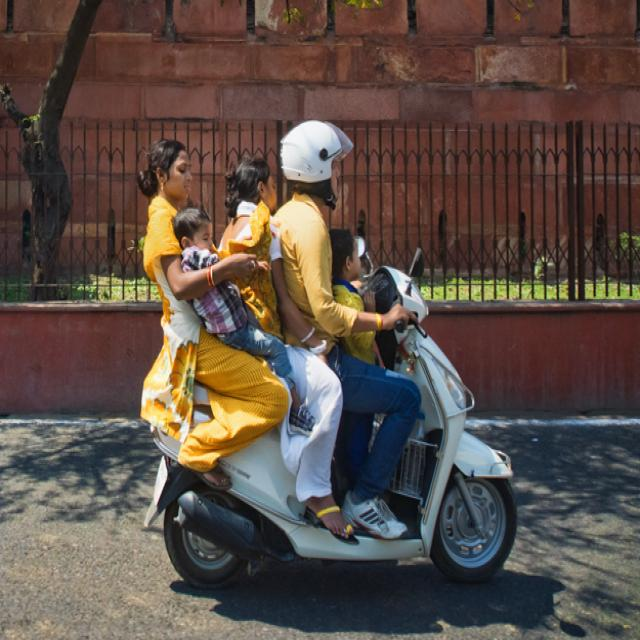motorcycle: (139, 122, 516, 587)
